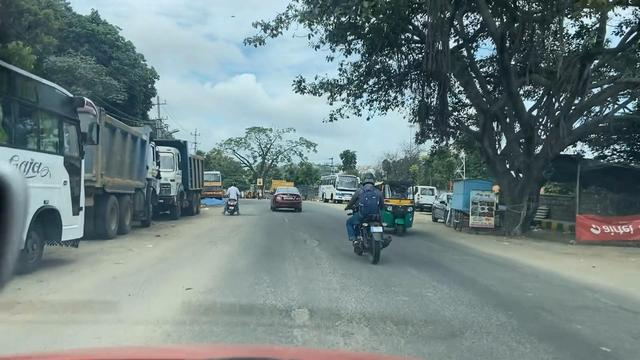HMV: (0, 55, 106, 298), (78, 91, 165, 253), (314, 168, 359, 206)
LMV: (341, 157, 393, 276), (378, 174, 427, 242), (262, 167, 311, 217), (220, 177, 250, 231)
RoadDamages: (263, 273, 334, 345), (291, 225, 330, 260)
